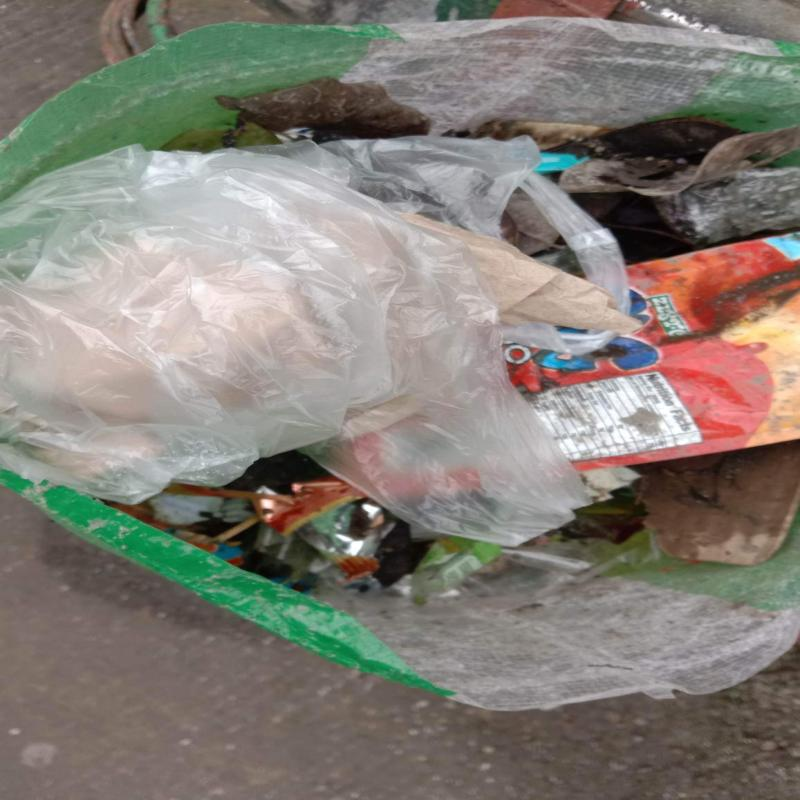paper: (411, 216, 641, 336)
plastic bag: (0, 136, 645, 551)
plastic sachet: (499, 231, 800, 472)
